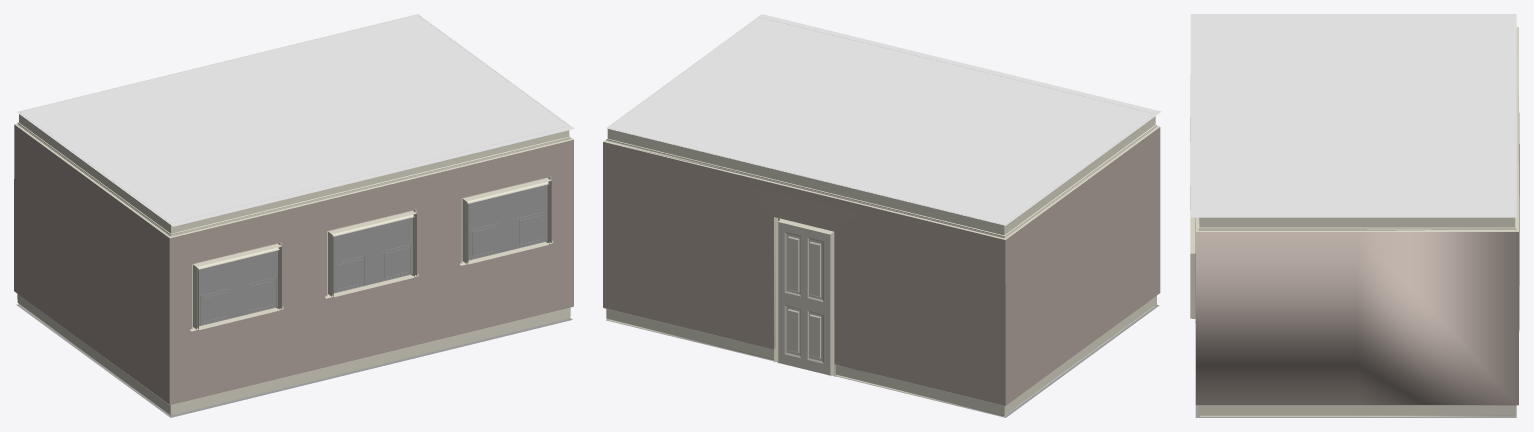
Rendered from Room_Traditional_All.fbx.
The picture shows the model from 3 angles, left to right: view 1: azimuth 30°, elevation 25°; view 2: azimuth 150°, elevation 25°; view 3: azimuth 270°, elevation 25°; orthographic projection. The views are drawn at different scales.
Visible parts, largest first — view 1: Room_Traditional_Walls, Room_Traditional_Ceiling, Room_Traditional_WindowGlass, Room_Traditional_Window, Room_Traditional_Floor; view 2: Room_Traditional_Walls, Room_Traditional_Ceiling, Room_Traditional_Door, Room_Traditional_Floor; view 3: Room_Traditional_Ceiling, Room_Traditional_Walls, Room_Traditional_Floor.
Boxes of the visible parts, x1,y1,x2,y2 form: Room_Traditional_Walls: [14, 114, 573, 415]; Room_Traditional_Ceiling: [17, 14, 574, 226]; Room_Traditional_WindowGlass: [199, 184, 547, 326]; Room_Traditional_Window: [198, 183, 549, 330]; Room_Traditional_Floor: [16, 304, 572, 417]; Room_Traditional_Walls: [603, 17, 1160, 416]; Room_Traditional_Ceiling: [606, 14, 1161, 225]; Room_Traditional_Door: [778, 222, 830, 375]; Room_Traditional_Floor: [606, 304, 1159, 417]; Room_Traditional_Ceiling: [1190, 14, 1516, 217]; Room_Traditional_Walls: [1190, 27, 1519, 416]; Room_Traditional_Floor: [1195, 405, 1516, 417].
Size of the model in its own units: 600 by 274 by 407.
Materials: 3 (1 with a texture image).
